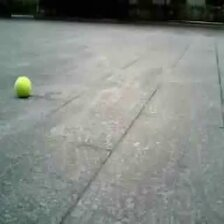tennis: (15, 77, 31, 96)
